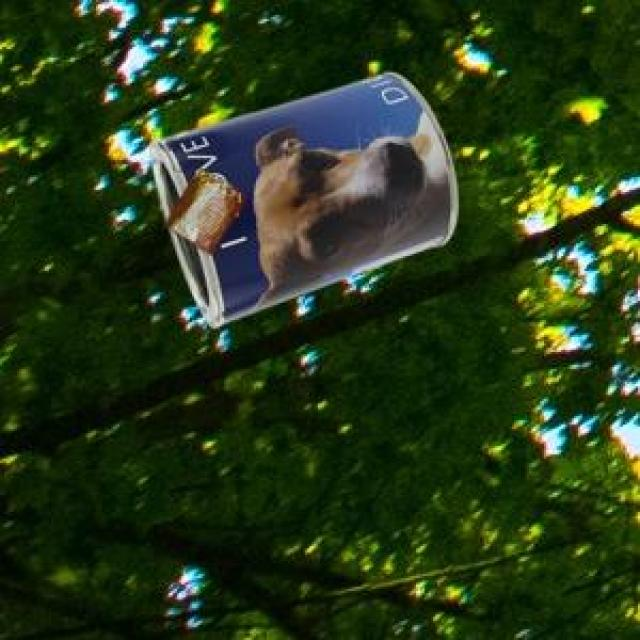logam: (148, 69, 455, 325), (163, 167, 242, 251)
